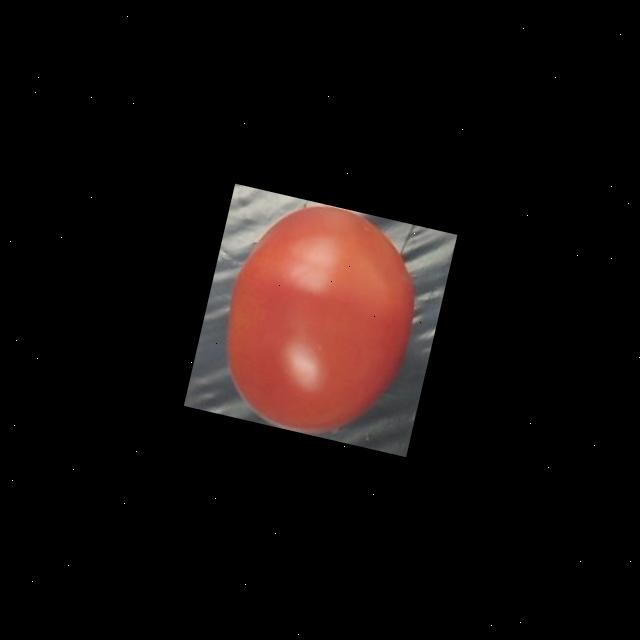tomato: (201, 187, 440, 451)
